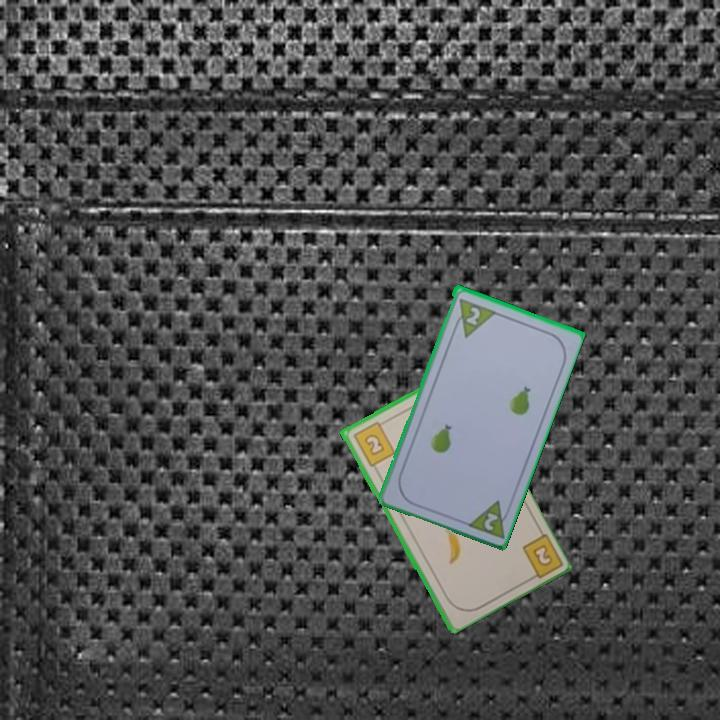2b: (349, 417, 398, 469), (518, 529, 563, 584)
2p: (462, 496, 514, 541), (448, 294, 497, 340)
